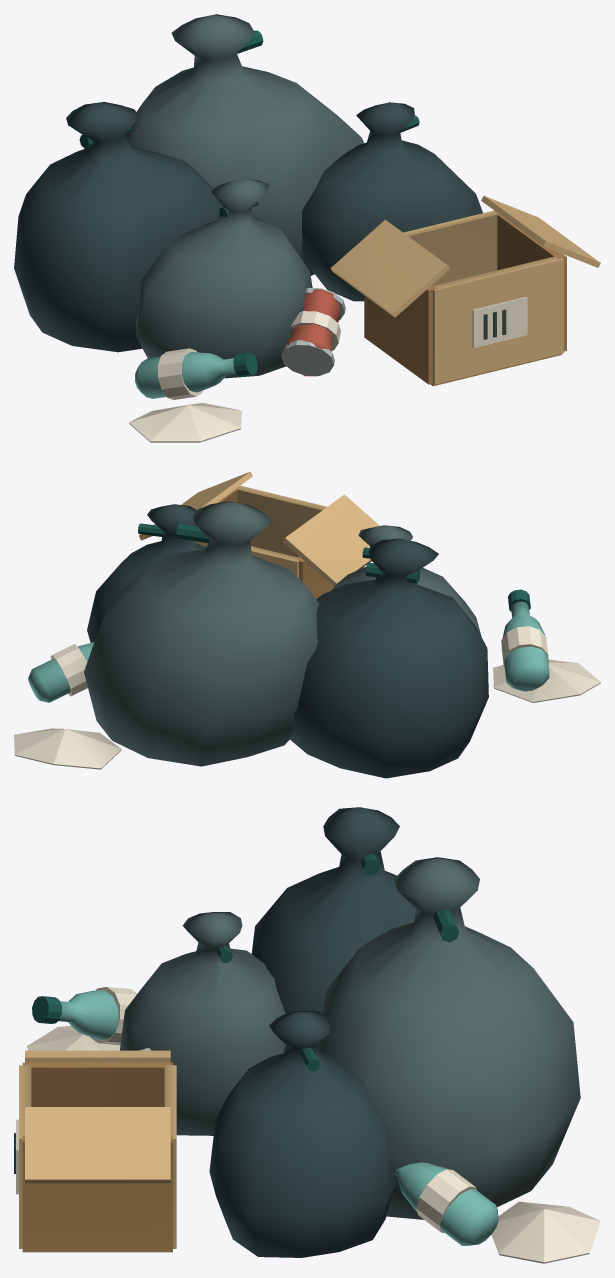
Rendered from waste-pile-low.glb.
The picture shows the model from 3 angles, top to bottom: view 1: azimuth 30°, elevation 25°; view 2: azimuth 150°, elevation 25°; view 3: azimuth 270°, elevation 25°; orthographic projection. The views are drawn at different scales.
Parts seen in each view (by area): view 1: creased tied refuse sack, pinched sack fold, carton end, carton shipping label, open carton bottom, discarded bottle, aluminium can end, crumpled drink can, sack knot; view 2: pinched sack fold, creased tied refuse sack, carton end, carton shipping label, discarded bottle, sack knot, open carton bottom; view 3: pinched sack fold, creased tied refuse sack, open carton bottom, carton end, carton shipping label, discarded bottle, sack knot.
Boxes of the visible parts, x1,y1,x2,y2 form: creased tied refuse sack: (14, 102, 506, 352); pinched sack fold: (125, 14, 363, 378); carton end: (330, 196, 600, 384); carton shipping label: (129, 296, 527, 442); open carton bottom: (364, 211, 566, 386); discarded bottle: (135, 352, 236, 398); aluminium can end: (281, 287, 345, 375); crumpled drink can: (286, 289, 340, 376); sack knot: (79, 30, 419, 376); pinched sack fold: (84, 501, 481, 766); creased tied refuse sack: (87, 504, 488, 778); carton end: (139, 471, 379, 586); carton shipping label: (14, 626, 600, 769); discarded bottle: (28, 601, 549, 702); sack knot: (138, 523, 530, 611); open carton bottom: (217, 487, 364, 599); pinched sack fold: (120, 857, 580, 1219); creased tied refuse sack: (14, 807, 415, 1257); open carton bottom: (22, 1062, 172, 1252); carton end: (19, 1050, 176, 1248); carton shipping label: (16, 987, 600, 1263); discarded bottle: (58, 990, 498, 1245); sack knot: (32, 854, 458, 1071).
Bounding box in the file's own units: 1.22 × 0.6791 × 1.21.
